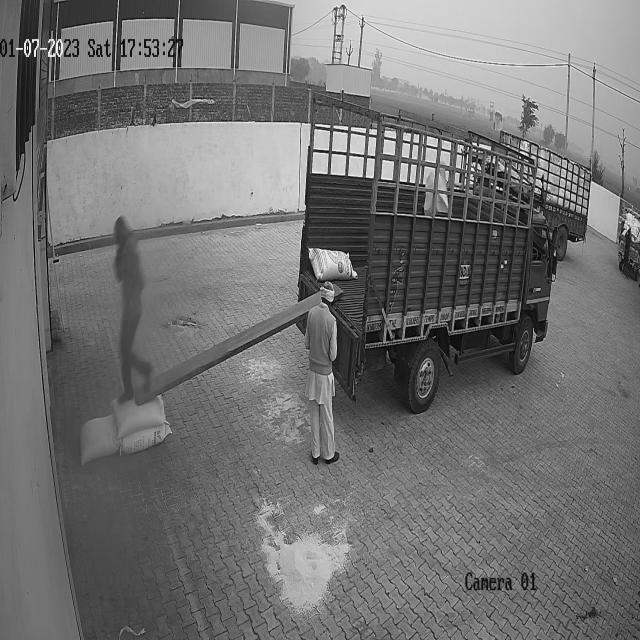sack: (114, 394, 164, 439), (308, 246, 358, 283), (79, 416, 119, 462), (120, 422, 171, 454)
